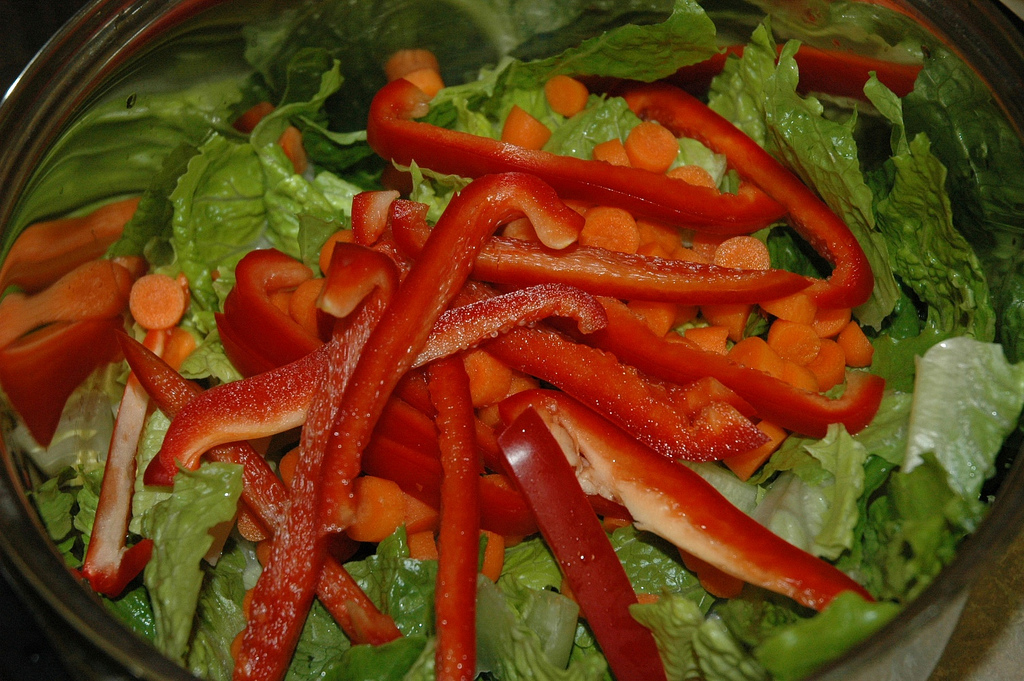chopped lettuce: (754, 39, 1003, 484), (117, 93, 324, 257)
